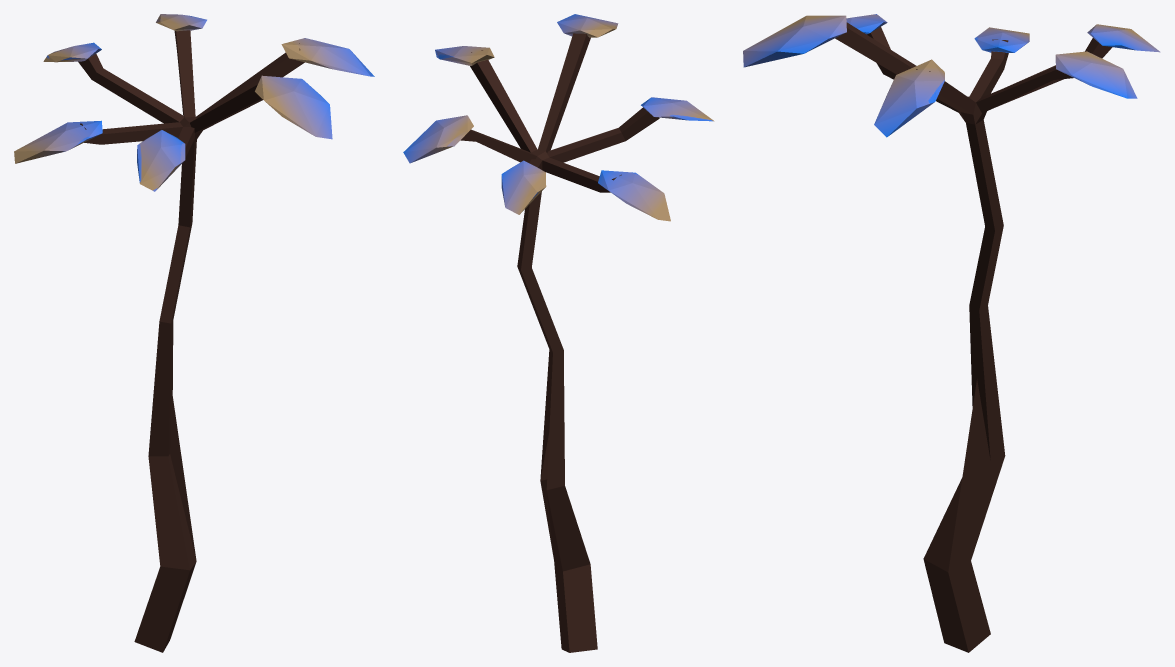
Rendered from Mesh_Tree1.fbx.
3 renders of one model, left to right at view 1: azimuth 30°, elevation 25°; view 2: azimuth 150°, elevation 25°; view 3: azimuth 270°, elevation 25°, orthographic. The views are drawn at different scales.
Parts seen in each view (by area): view 1: Cube, Icosphere.011, Icosphere.001, Icosphere.002, Icosphere.006, Icosphere.003, Icosphere.005; view 2: Cube, Icosphere.002, Icosphere.005, Icosphere.003, Icosphere.001, Icosphere.011, Icosphere.006; view 3: Cube, Icosphere.006, Icosphere.011, Icosphere.005, Icosphere.003, Icosphere.002.
Boxes of the visible parts, <box> form: Cube: <box>78,30,304,652</box>; Icosphere.011: <box>255,75,332,139</box>; Icosphere.001: <box>137,130,185,191</box>; Icosphere.002: <box>14,120,102,163</box>; Icosphere.006: <box>281,38,374,76</box>; Icosphere.003: <box>43,42,101,62</box>; Icosphere.005: <box>156,14,206,31</box>; Cube: <box>460,33,659,652</box>; Icosphere.002: <box>598,170,670,221</box>; Icosphere.005: <box>403,115,473,163</box>; Icosphere.003: <box>501,160,546,214</box>; Icosphere.001: <box>641,97,714,121</box>; Icosphere.011: <box>557,14,618,37</box>; Icosphere.006: <box>435,46,494,65</box>; Cube: <box>835,22,1112,652</box>; Icosphere.006: <box>874,59,944,137</box>; Icosphere.011: <box>743,15,846,67</box>; Icosphere.005: <box>1055,51,1137,98</box>; Icosphere.003: <box>1087,24,1160,52</box>; Icosphere.002: <box>974,27,1029,52</box>.
Bounding box in the file's own units: 3641 × 6866 × 3960.
